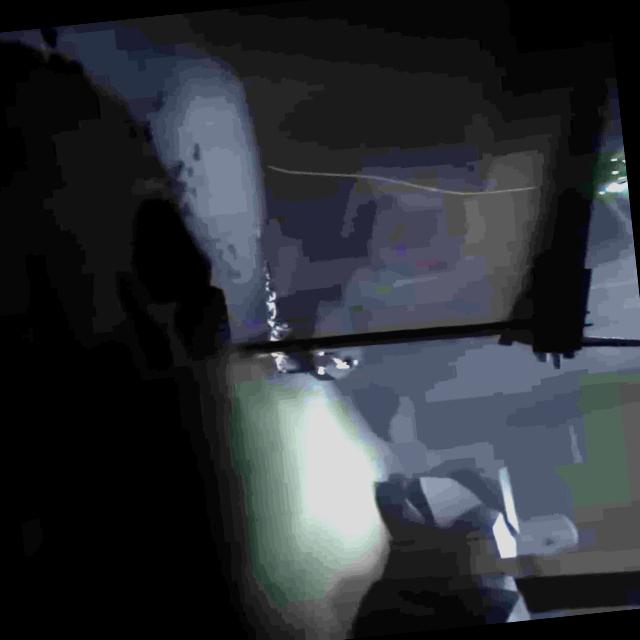boy: (272, 348, 358, 380)
